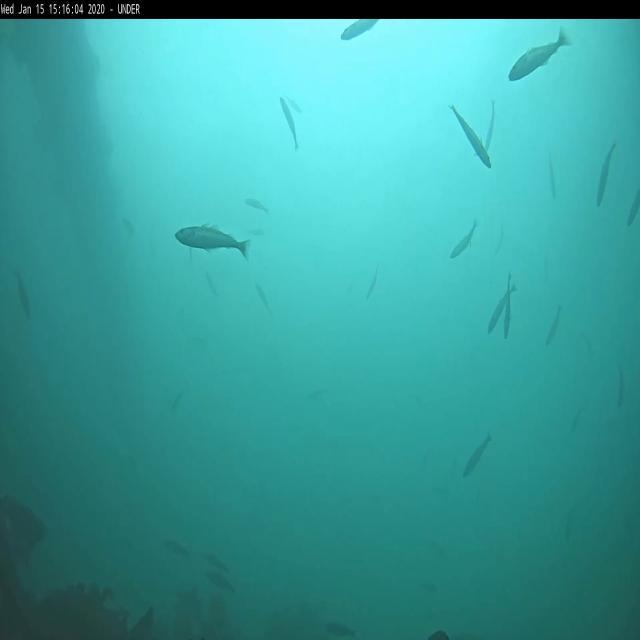fish: (511, 28, 571, 84), (175, 226, 250, 259), (452, 105, 490, 167), (594, 141, 616, 206), (462, 434, 490, 478), (489, 286, 514, 329), (450, 220, 476, 258), (280, 96, 298, 148), (340, 16, 378, 40), (16, 271, 32, 317), (206, 570, 236, 593), (485, 100, 495, 154), (163, 539, 189, 558), (548, 306, 560, 346), (203, 552, 227, 572), (366, 266, 378, 302), (628, 190, 639, 228), (256, 284, 272, 310), (245, 196, 269, 213), (504, 275, 509, 342), (286, 96, 302, 114), (616, 370, 623, 408), (549, 157, 555, 200)
